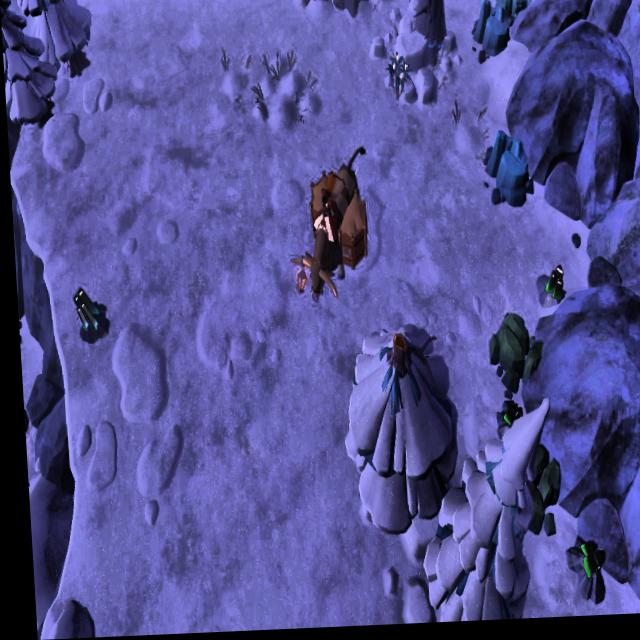fiber_t4: (386, 54, 412, 104)
ore_t3: (574, 541, 600, 591), (540, 265, 564, 310), (499, 400, 520, 435)
ore_t4: (71, 285, 100, 336)
rock_t3: (503, 440, 564, 545), (481, 309, 536, 397)
rock_t4: (478, 138, 534, 212), (466, 0, 509, 70), (495, 0, 532, 35)
